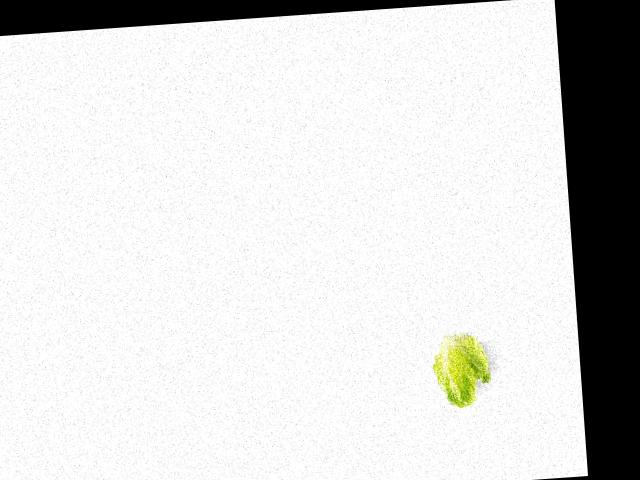lettuce: (427, 323, 494, 414)
